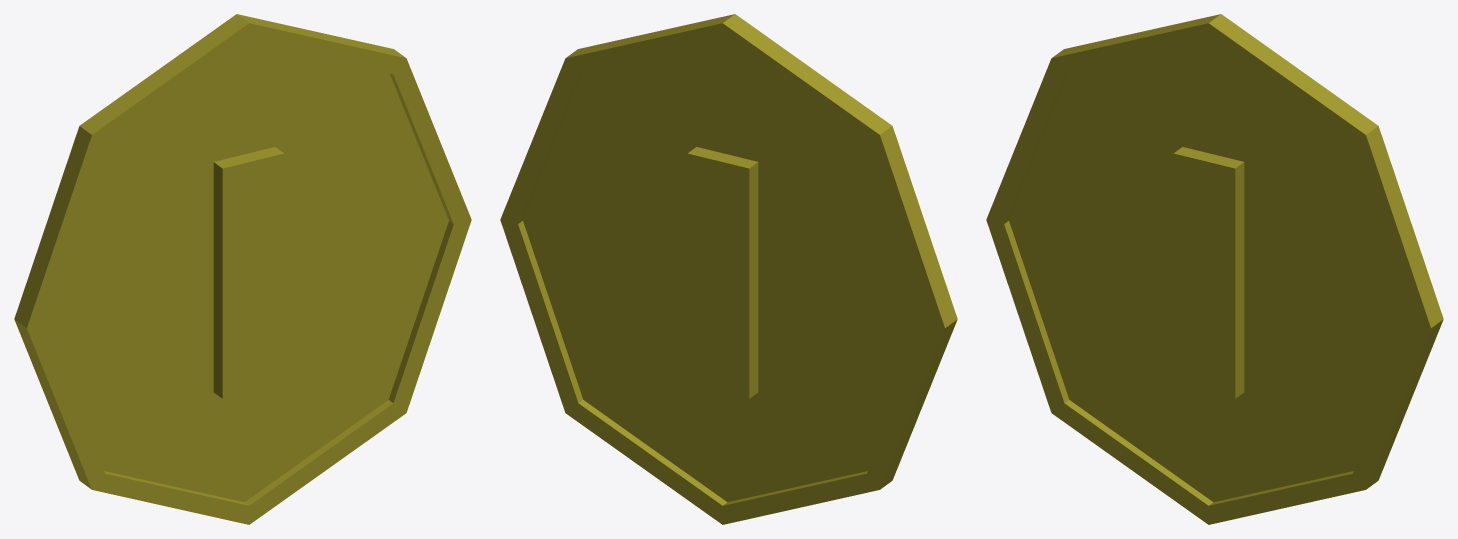
The model's file is Coin.fbx.
The picture shows the model from 3 angles, left to right: view 1: azimuth 30°, elevation 25°; view 2: azimuth 150°, elevation 25°; view 3: azimuth 330°, elevation 25°; orthographic projection.
Visible parts, largest first — view 1: pCylinder2; view 2: pCylinder2; view 3: pCylinder2.
Part boxes in pixels (x1,y1,x2,y2): pCylinder2: (14,14,471,524); pCylinder2: (500,14,957,524); pCylinder2: (986,14,1443,524).
Bounding box in the file's own units: 2.66 × 2.87 × 0.2186.
